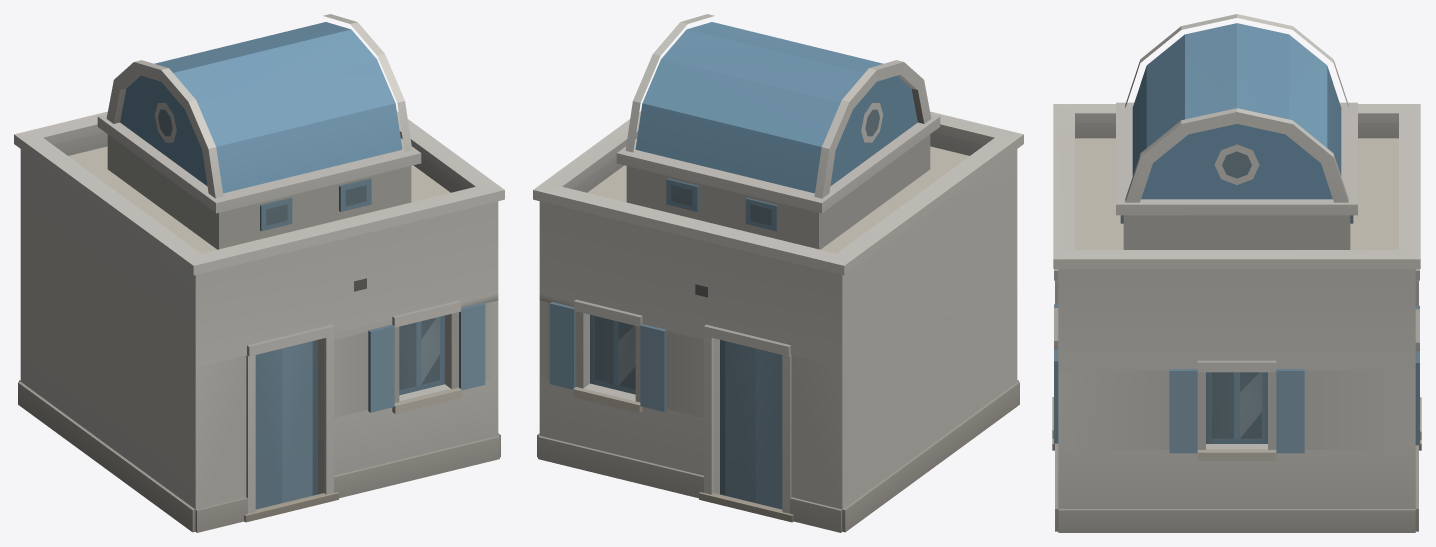
Rendered from dome1.lod1.glb.
3 renders of one model, left to right at view 1: azimuth 30°, elevation 25°; view 2: azimuth 150°, elevation 25°; view 3: azimuth 270°, elevation 25°, orthographic. The views are drawn at different scales.
Size of the model in its own units: 4.41 by 5.2 by 4.43.
